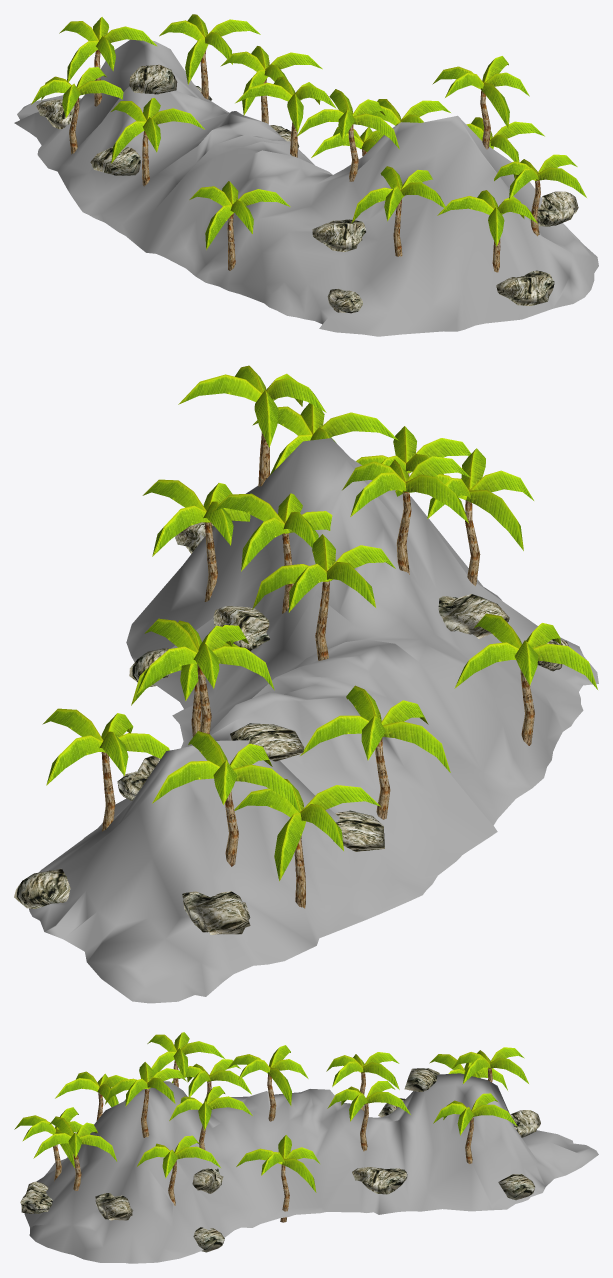
File: island_07.fbx
The picture shows the model from 3 angles, top to bottom: view 1: azimuth 30°, elevation 25°; view 2: azimuth 150°, elevation 25°; view 3: azimuth 270°, elevation 25°; orthographic projection. The views are drawn at different scales.
Visible parts, largest first — view 1: island_07; view 2: island_07; view 3: island_07.
Boxes of the visible parts, left/top/right/bottom form: island_07: left=14, top=14, right=598, bottom=336; island_07: left=14, top=365, right=598, bottom=1003; island_07: left=14, top=1032, right=598, bottom=1263.
Bounding box in the file's own units: 28.35 × 15.78 × 50.24.
